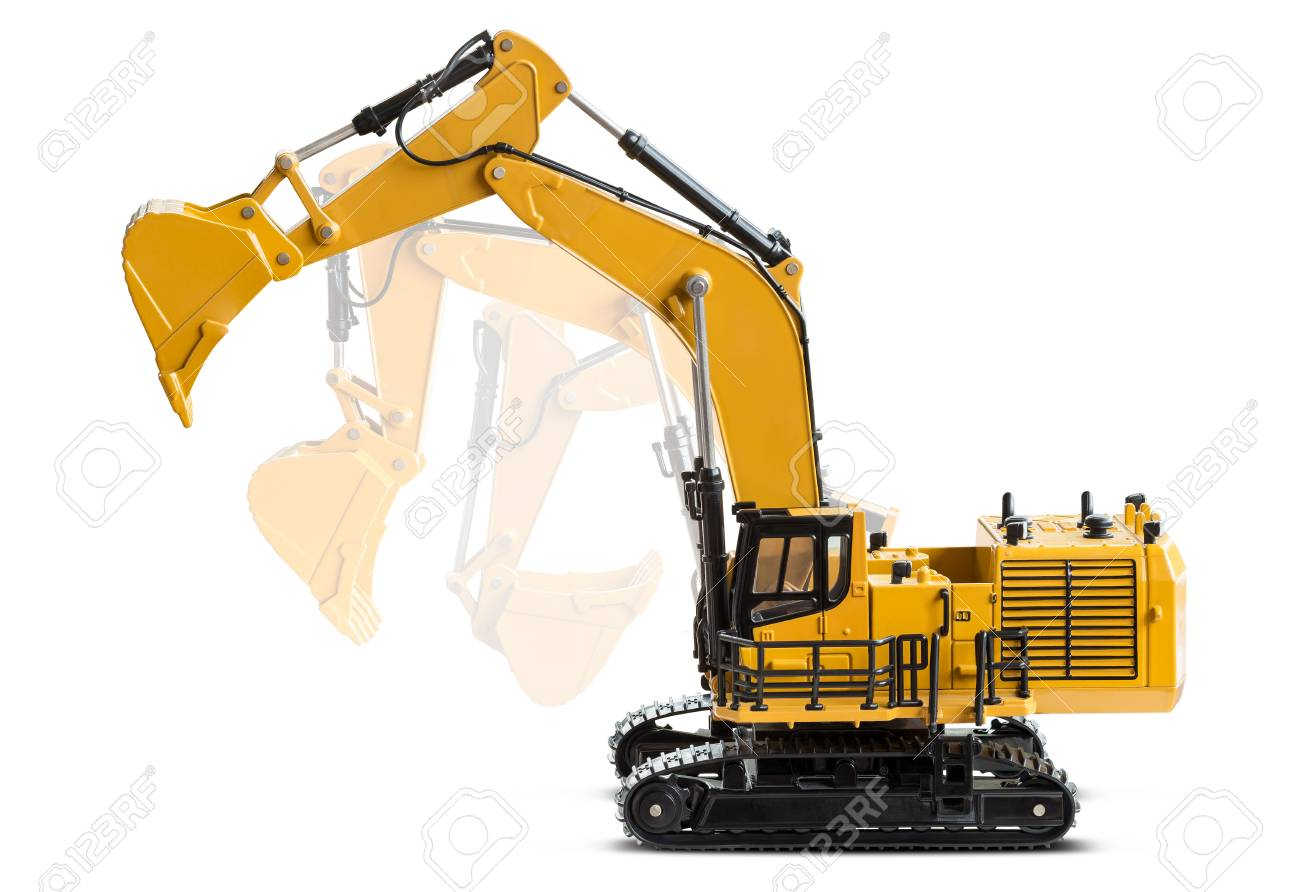backhoe: (110, 19, 1180, 865)
